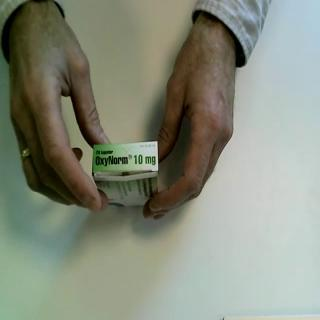oxynorm10mg: (91, 140, 161, 211)
